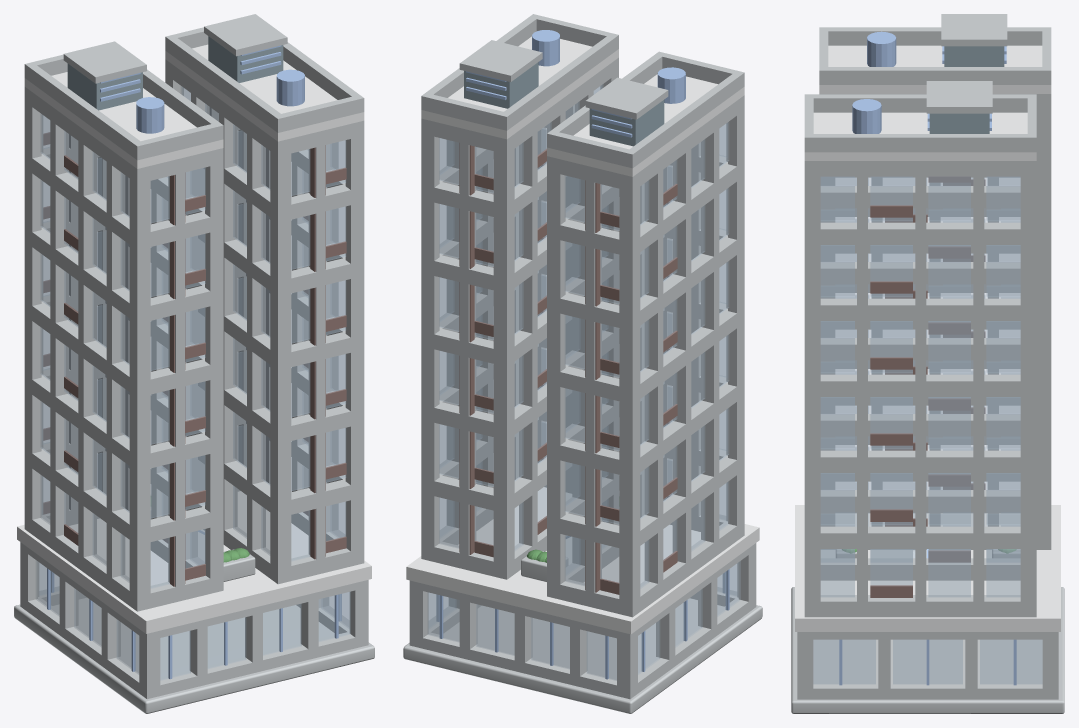
Rendered from provident-centre.glb.
3 renders of one model, left to right at view 1: azimuth 30°, elevation 25°; view 2: azimuth 150°, elevation 25°; view 3: azimuth 270°, elevation 25°, orthographic. The views are drawn at different scales.
Parts seen in each view (by area): view 1: Provident retail base, Provident garden deck, Provident block 1 xn facade pier.004, Provident block -1 xn facade pier.004, Provident block -1 xp facade pier, Provident block 1 xn facade pier.003, Provident block -1 xn facade pier.003, Provident block -1 xn facade pier.002, Provident block 1 xp facade pier, Provident block -1 xn facade pier.001, Provident block 1 zp facade pier.001, Provident block 1 xn facade pier.002 (+118 smaller); view 2: Provident retail base, Provident garden deck, Provident block -1 xn facade pier, Provident block 1 xp facade pier.004, Provident block -1 xp facade pier.004, Provident block 1 xn facade pier, Provident block 1 xn facade pier.001, Provident block -1 xn facade pier.002, Provident block -1 xn facade pier.001, Provident block -1 xn facade pier.003, Provident block -1 zp facade pier, Provident block 1 zn facade pier.001 (+122 smaller); view 3: Provident retail base, Provident garden deck, Provident block 1 xp facade pier.002, Provident block 1 xp facade pier.003, Provident block 1 xp flush spandrel.002, Provident block 1 xp flush spandrel.001, Provident block 1 xp facade pier, Provident block 1 xp flush spandrel.004, Provident block 1 xp flush spandrel, Provident flat roof.001, Provident block 1 xp facade pier.004, Provident block 1 xp flush spandrel.005 (+105 smaller).
Part boxes in pixels (x1,y1,x2,y2): Provident retail base: (14,598,374,713); Provident garden deck: (17,491,371,633); Provident block 1 xn facade pier.004: (272,138,291,583); Provident block -1 xn facade pier.004: (132,165,150,611); Provident block -1 xp facade pier: (205,148,223,593); Provident block 1 xn facade pier.003: (247,119,265,555); Provident block -1 xn facade pier.003: (106,147,125,577); Provident block -1 xn facade pier.002: (78,126,96,570); Provident block 1 xp facade pier: (345,120,364,562); Provident block -1 xn facade pier.001: (50,105,68,550); Provident block 1 zp facade pier.001: (308,130,325,574); Provident block 1 xn facade pier.002: (219,99,237,544); Provident retail base: (403,598,762,713); Provident garden deck: (406,487,759,634); Provident block -1 xn facade pier: (619,174,637,616); Provident block 1 xp facade pier.004: (421,118,439,561); Provident block -1 xp facade pier.004: (547,156,565,599); Provident block 1 xn facade pier: (493,136,512,577); Provident block 1 xn facade pier.001: (519,117,537,550); Provident block -1 xn facade pier.002: (672,134,691,574); Provident block -1 xn facade pier.001: (644,167,663,583); Provident block -1 xn facade pier.003: (701,129,719,554); Provident block -1 zp facade pier: (728,101,744,540); Provident block 1 zn facade pier.001: (459,128,476,558); Provident retail base: (791,587,1064,713); Provident garden deck: (795,505,1060,631); Provident block 1 xp facade pier.002: (915,161,926,601); Provident block 1 xp facade pier.003: (973,161,984,601); Provident block 1 xp flush spandrel.002: (804,450,1036,472); Provident block 1 xp flush spandrel.001: (804,526,1036,548); Provident block 1 xp facade pier: (804,161,815,601); Provident block 1 xp flush spandrel.004: (804,298,1036,320); Provident block 1 xp flush spandrel: (804,595,1036,617); Provident flat roof.001: (804,112,1036,160); Provident block 1 xp facade pier.004: (1025,161,1036,601); Provident block 1 xp flush spandrel.005: (804,222,1036,244).
Size of the model in its own units: 2.24 by 5.39 by 2.24.
